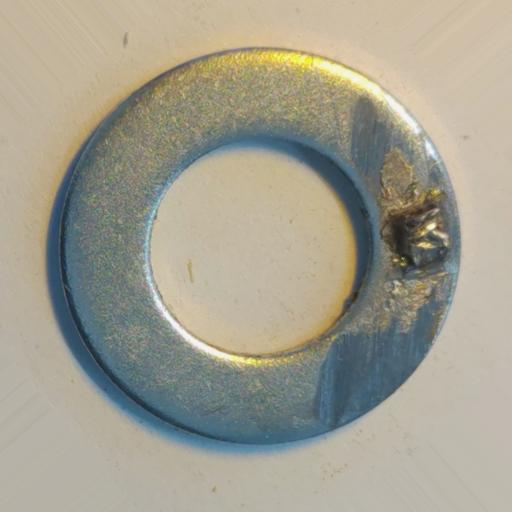excess_material: (362, 151, 452, 332)
